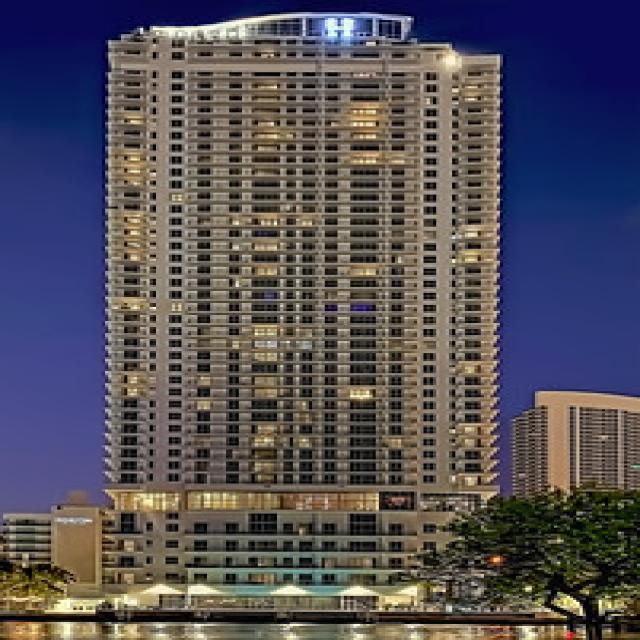building: (94, 8, 514, 616)
